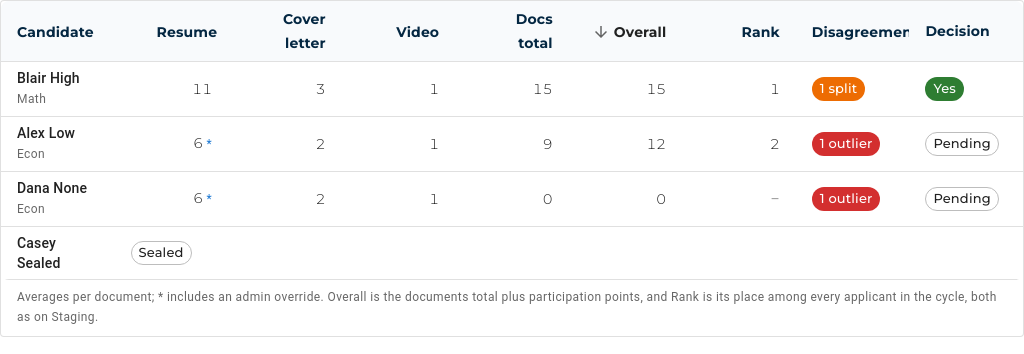
AllCandidatesTable › adds Staging's rank, best first when sorted, unranked and sealed rows last
The width and height of the screenshot is (1024, 354).
Click the button "Rank": (761, 32) top-left (742, 23), bottom-right (780, 41)
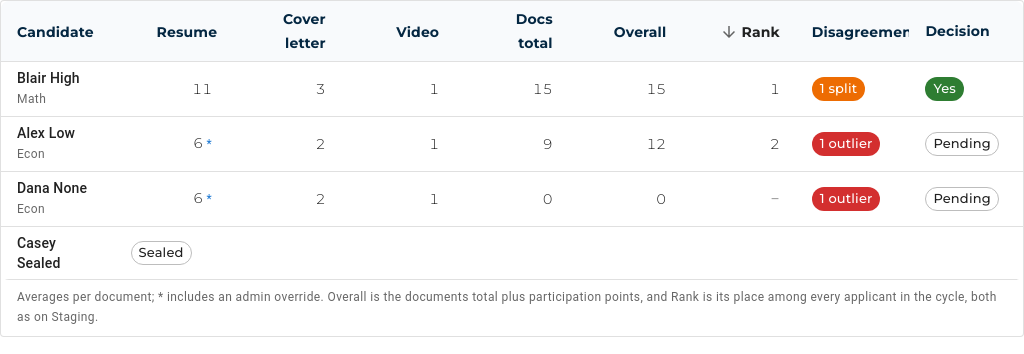
Check: the text named "Not scored yet" is shown, box top-left (770, 191), bottom-right (780, 207)
Hover over the text "1": (775, 89) top-left (770, 80), bottom-right (780, 98)
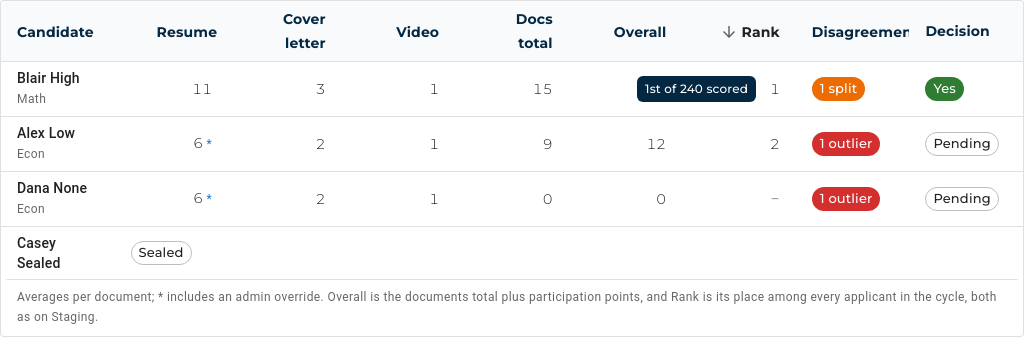
Check: the tooltip reads "1st of 240 scored", box top-left (645, 81), bottom-right (748, 96)
